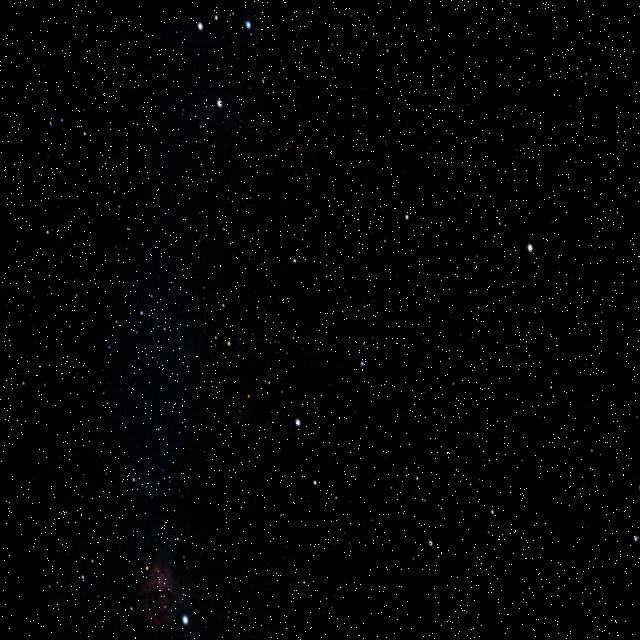Cepheus: (202, 208, 448, 443)
